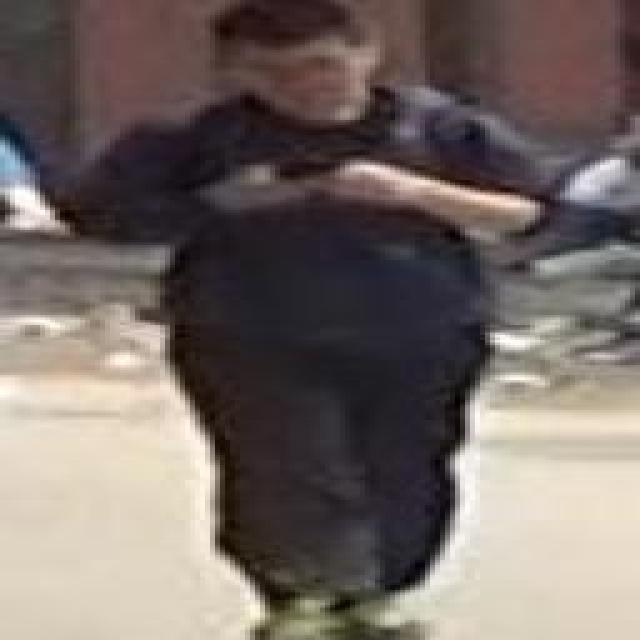adult: (58, 0, 558, 640)
